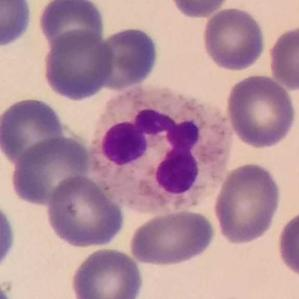Neutrophil: (85, 83, 237, 221)
RBC: (44, 173, 127, 250), (211, 160, 284, 246), (9, 134, 92, 207), (223, 72, 298, 150), (127, 207, 218, 268), (41, 28, 116, 102), (0, 95, 66, 167), (93, 24, 160, 91), (200, 6, 267, 72), (68, 245, 145, 299), (36, 0, 107, 52), (266, 24, 299, 92), (274, 205, 299, 282), (0, 0, 34, 49), (0, 194, 18, 276), (167, 0, 232, 19)
